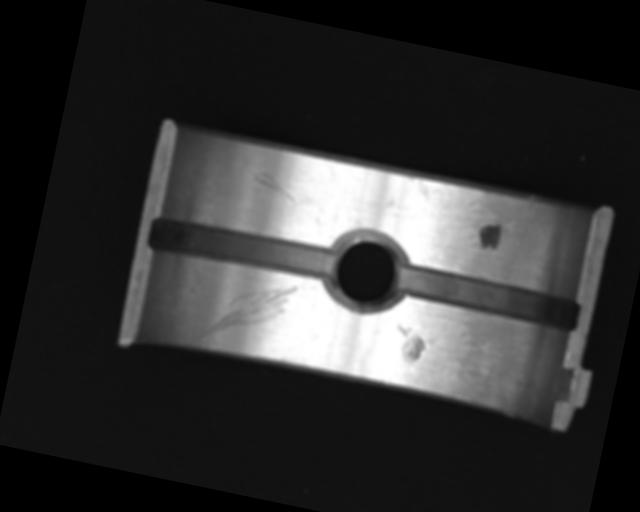blot: (475, 219, 503, 252)
bruise: (391, 323, 429, 364)
gap: (144, 210, 339, 288), (394, 262, 581, 331)
hole: (320, 224, 416, 321)
nick: (198, 268, 299, 357), (250, 168, 313, 210)
